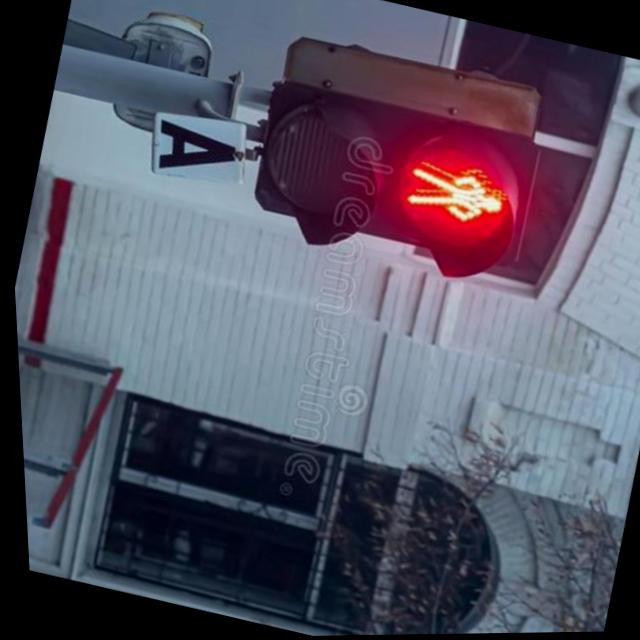red_light: (380, 127, 527, 264)
